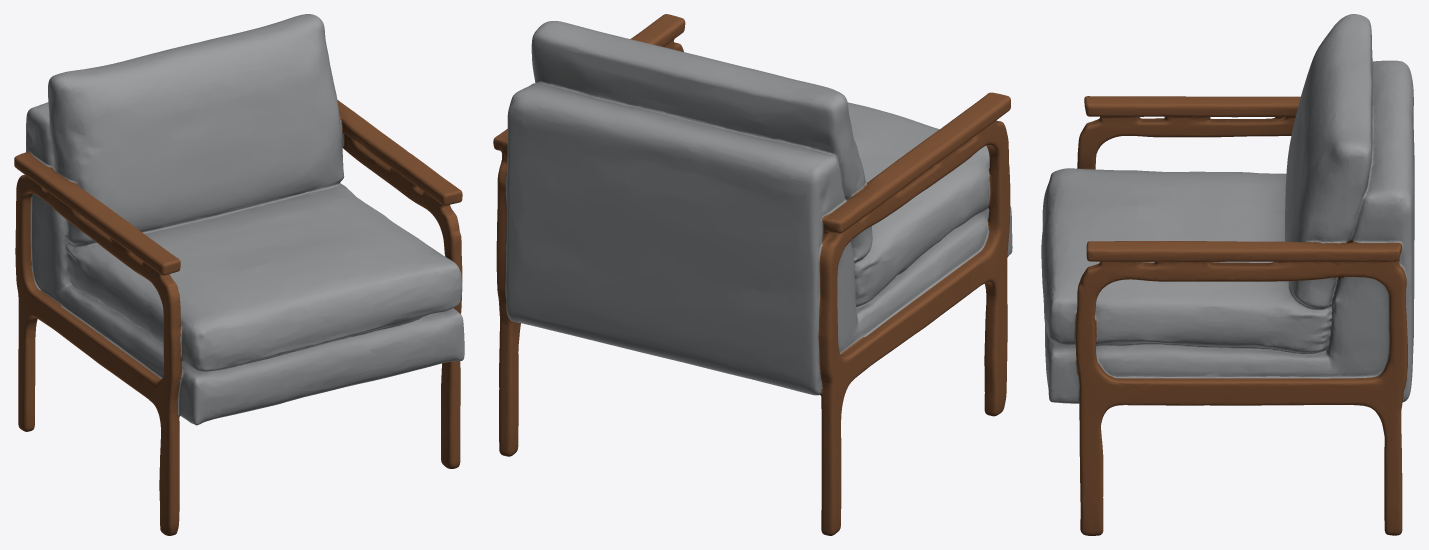
File: safira-074.glb
3 views of the same model, side by side, from view 1: azimuth 30°, elevation 25°; view 2: azimuth 150°, elevation 25°; view 3: azimuth 270°, elevation 25° (orthographic). The views are drawn at different scales.
Visible parts, largest first — view 1: Sofa; view 2: Sofa; view 3: Sofa.
Boxes of the visible parts, x1,y1,x2,y2 form: Sofa: (14, 14, 464, 535); Sofa: (493, 14, 1012, 535); Sofa: (1041, 14, 1414, 535).
Bounding box in the file's own units: 0.74 × 0.85 × 0.75.
